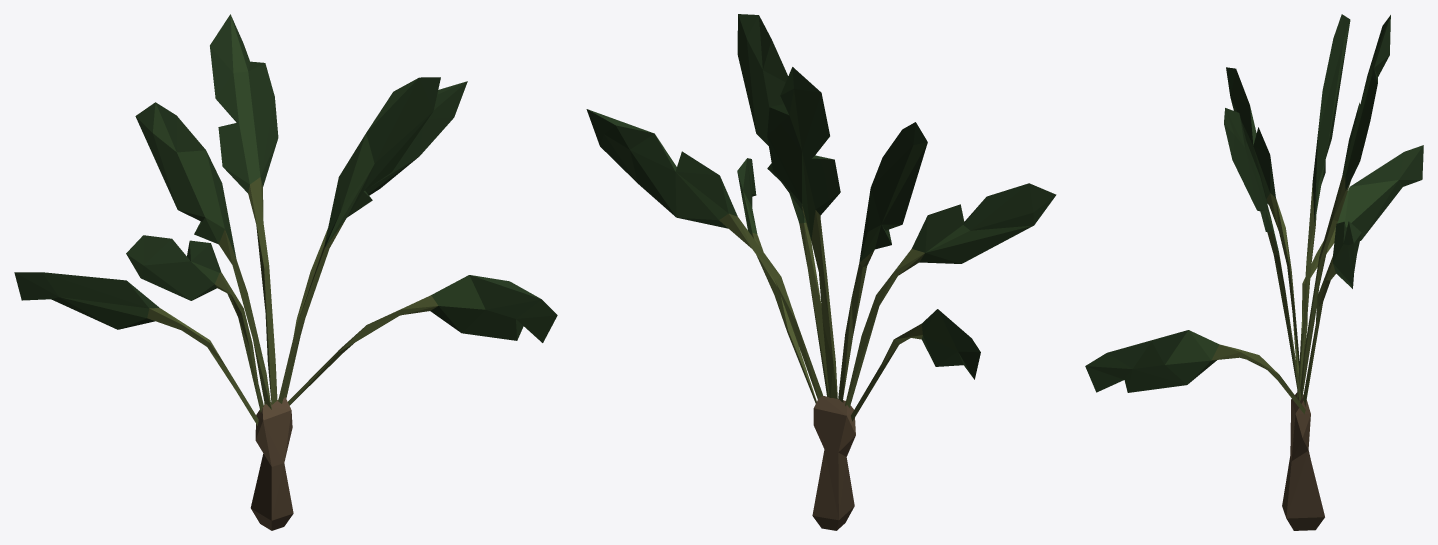
File: SM_Env_PalmBush_03.glb
3 views of the same model, side by side, from view 1: azimuth 30°, elevation 25°; view 2: azimuth 150°, elevation 25°; view 3: azimuth 270°, elevation 25° (orthographic). The views are drawn at different scales.
Parts seen in each view (by area): view 1: SM_Env_PalmBush_03; view 2: SM_Env_PalmBush_03; view 3: SM_Env_PalmBush_03.
Boxes of the visible parts, box(x1,y1,x2,y2) form: SM_Env_PalmBush_03: box(14, 14, 557, 530); SM_Env_PalmBush_03: box(586, 14, 1056, 530); SM_Env_PalmBush_03: box(1085, 14, 1423, 530).
Size of the model in its own units: 0.0348 by 0.0381 by 0.0228.
